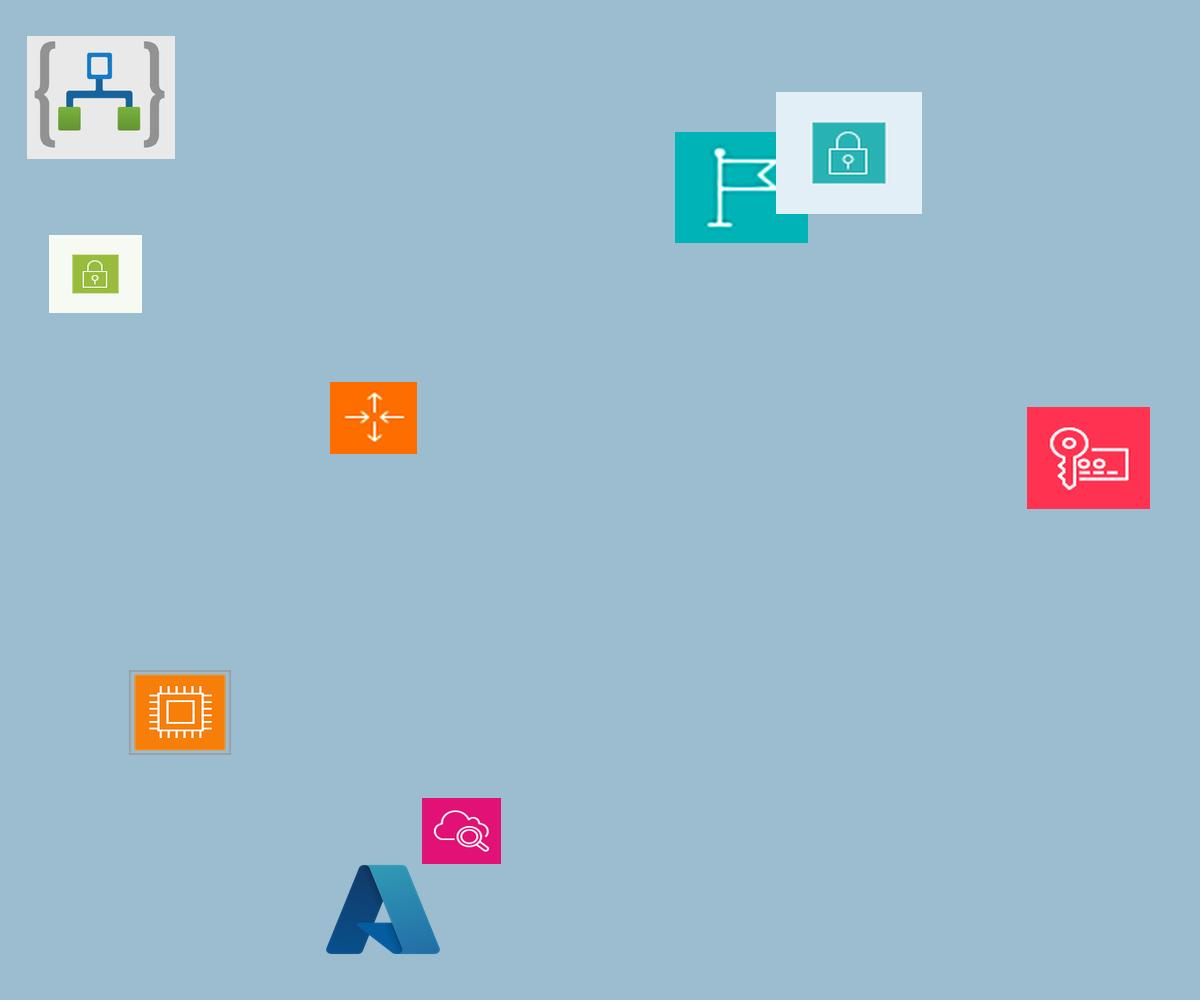AWS-Category_Compute: (129, 670, 231, 755)
AWS-CloudWatch: (422, 798, 501, 864)
AWS-Key-Management-Service: (1027, 407, 1150, 509)
AWS-Private-subnet: (776, 92, 922, 214)
AWS-Public-subnet: (49, 235, 142, 313)
AWS-Region: (675, 132, 808, 243)
AWS-Scaling-group: (330, 382, 417, 454)
Azure_integration-204-Logic-Apps: (27, 36, 175, 159)
Azure_services: (321, 858, 445, 961)
